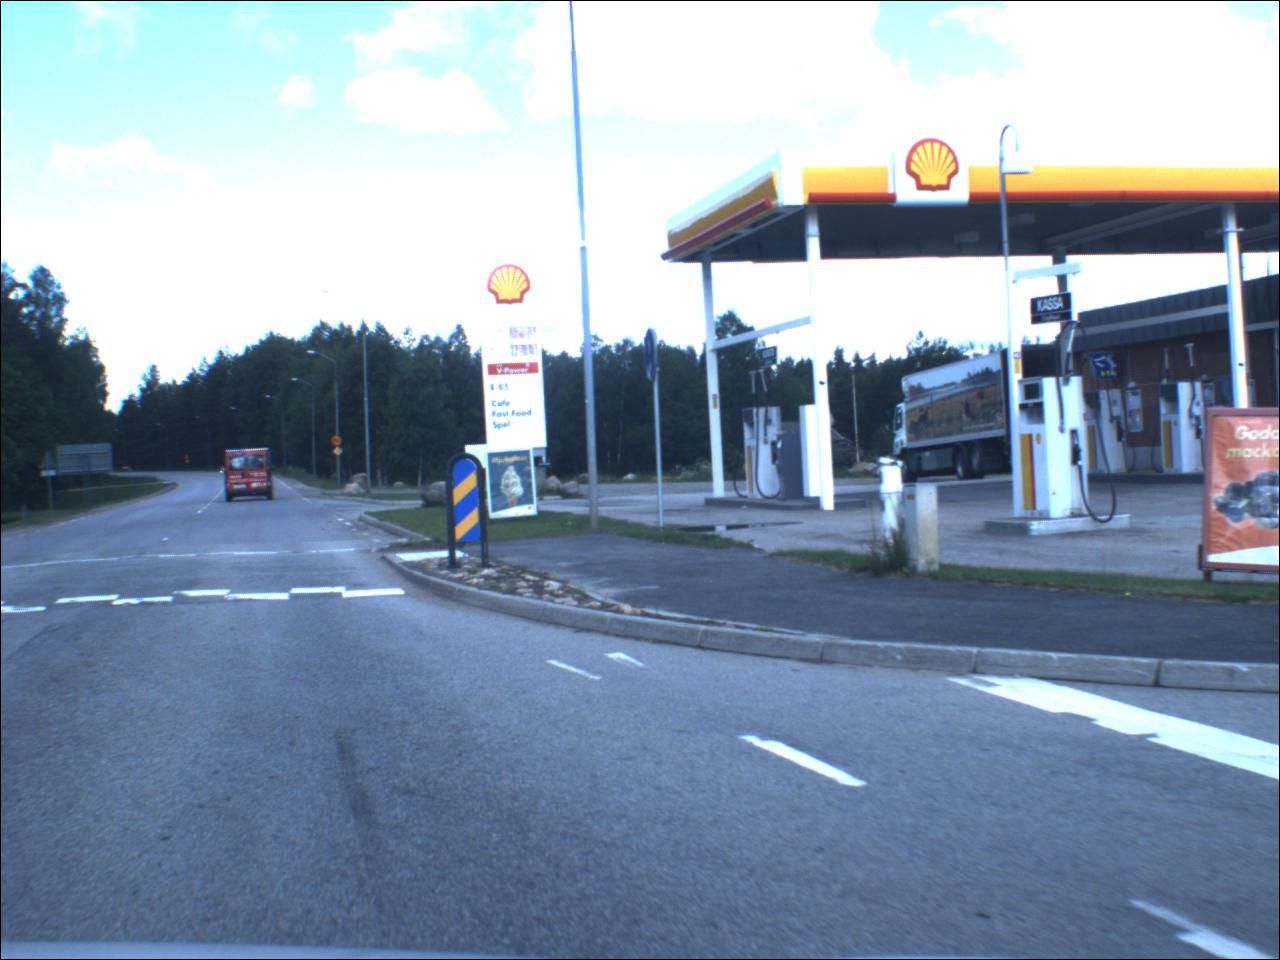50_SIGN: (333, 436, 345, 448)
PRIORITY_ROAD: (335, 448, 347, 458)
